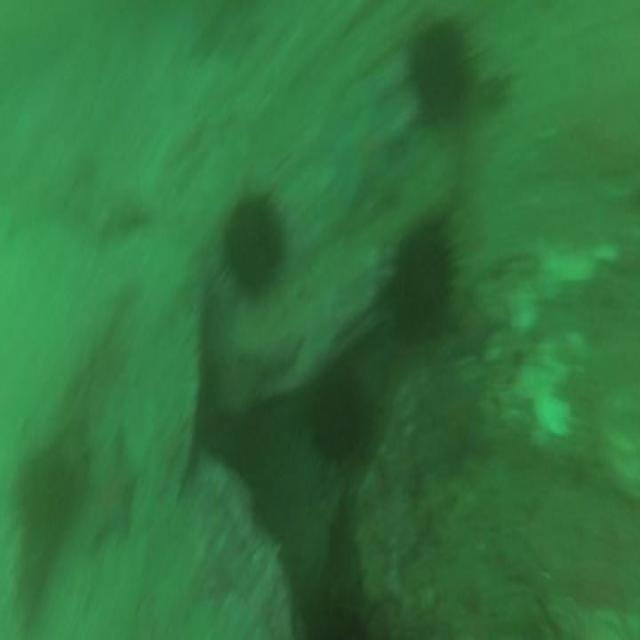echinus: (412, 20, 470, 116), (393, 224, 450, 321), (225, 194, 281, 290), (311, 374, 368, 462)
starfish: (419, 364, 488, 462), (93, 444, 135, 540), (450, 294, 495, 365)
